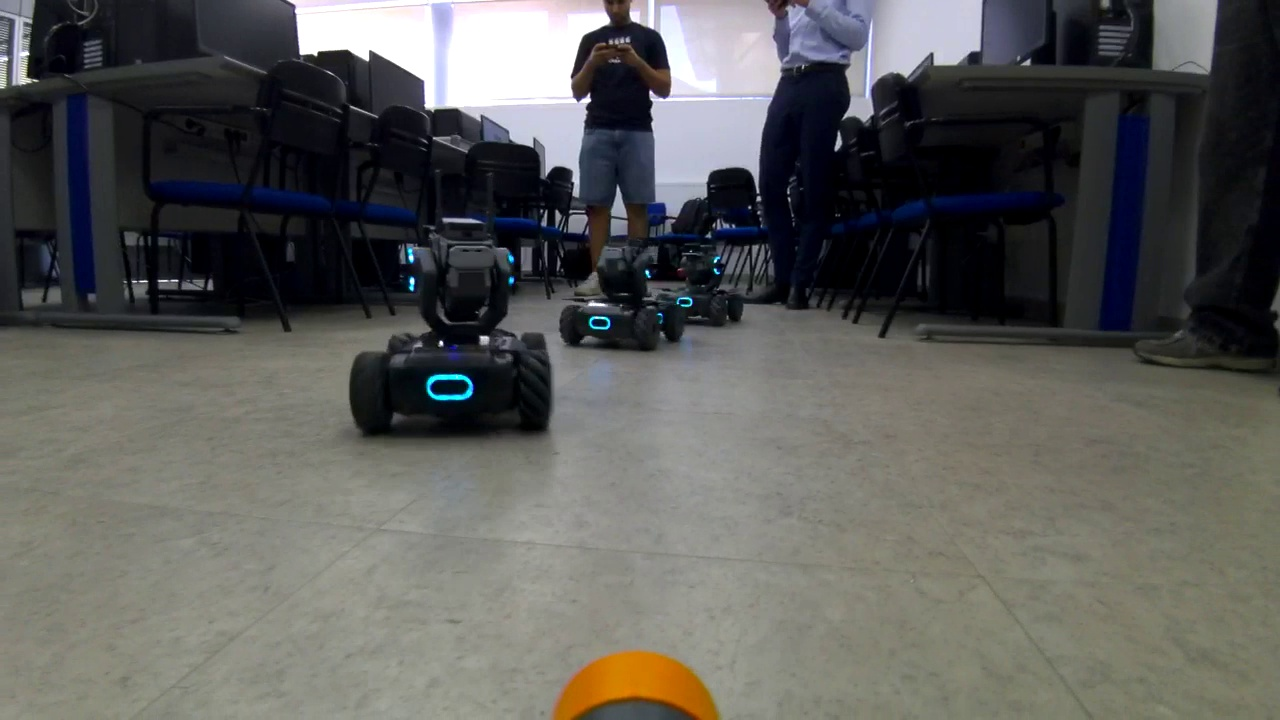robot: (347, 163, 553, 444), (563, 233, 686, 355), (657, 243, 737, 332)
